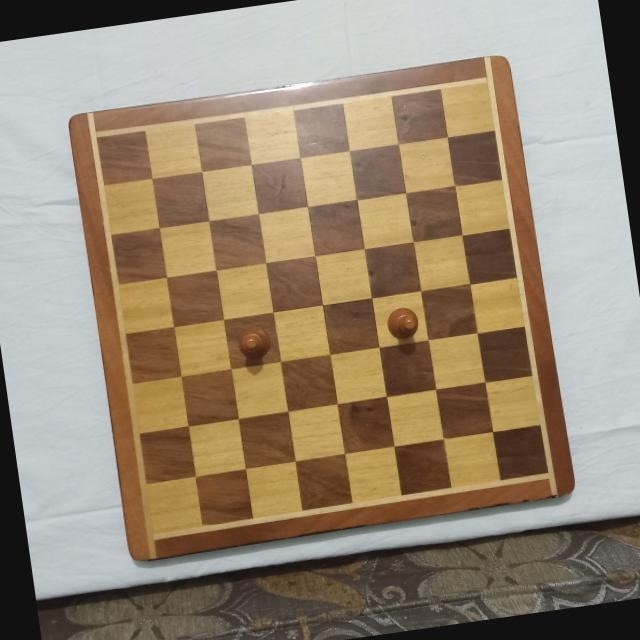white-pawn: (383, 303, 422, 342), (237, 323, 274, 361)
